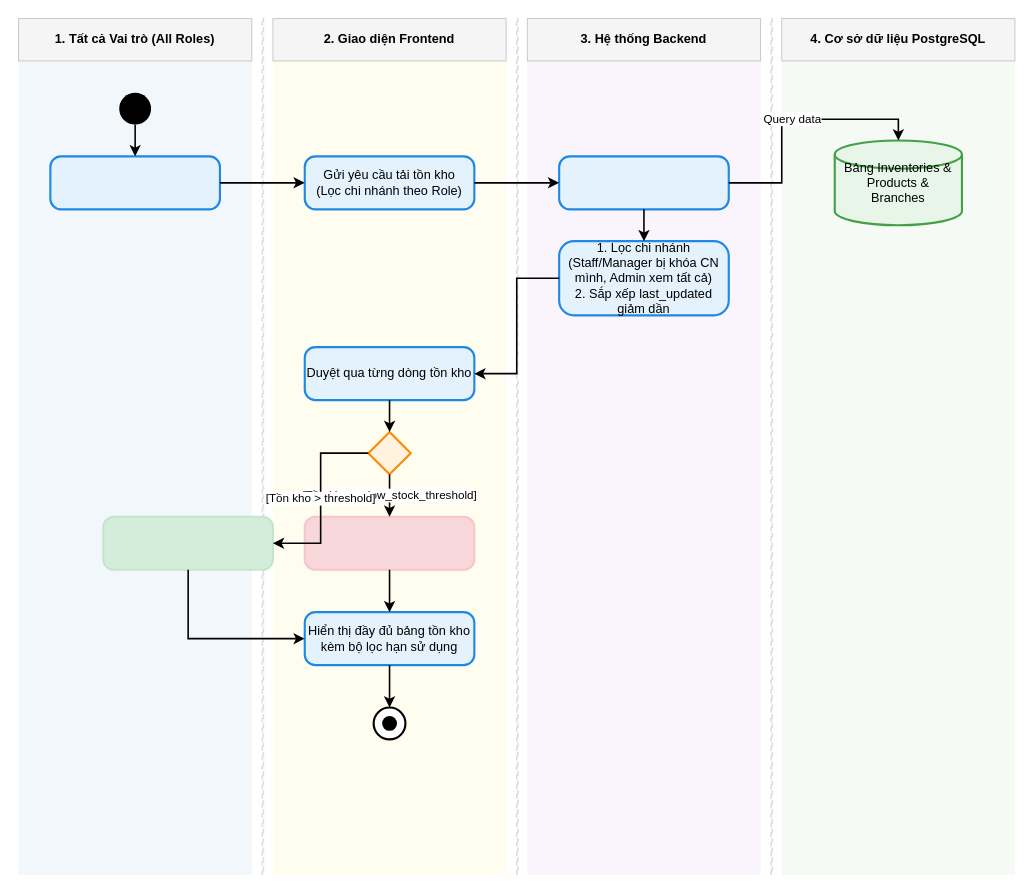
Image size: 1034x895. Some labels were removed from this diagram. The shapes that lost their labels are listed below. From the top down, each one's centre as x and y in pixels, then its label:
At point 134,182: "Click chức năng Xem Tồn Kho".
At point 643,182: "Truy xuất DB: Lấy dữ liệu tồn kho theo lô & hạn sử dụng".
At point 187,542: "Hiển thị bình thường".
At point 389,542: "Highlight cảnh báo màu ĐỎ trên giao diện".
